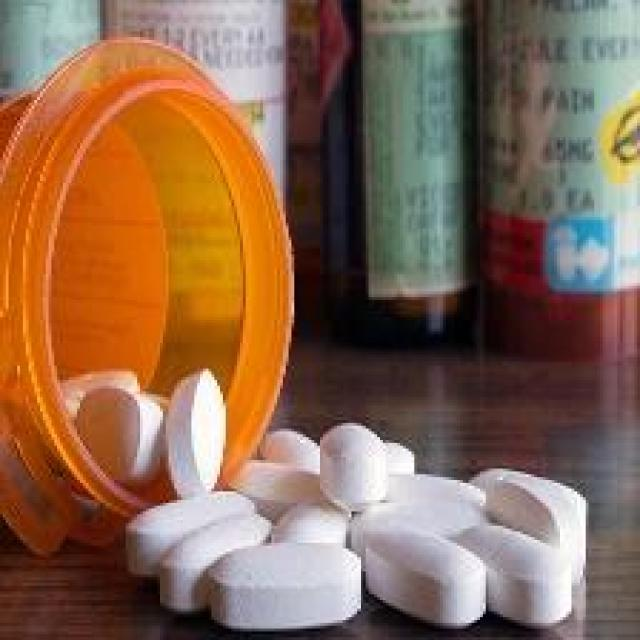Medicine: (0, 258, 618, 640)
